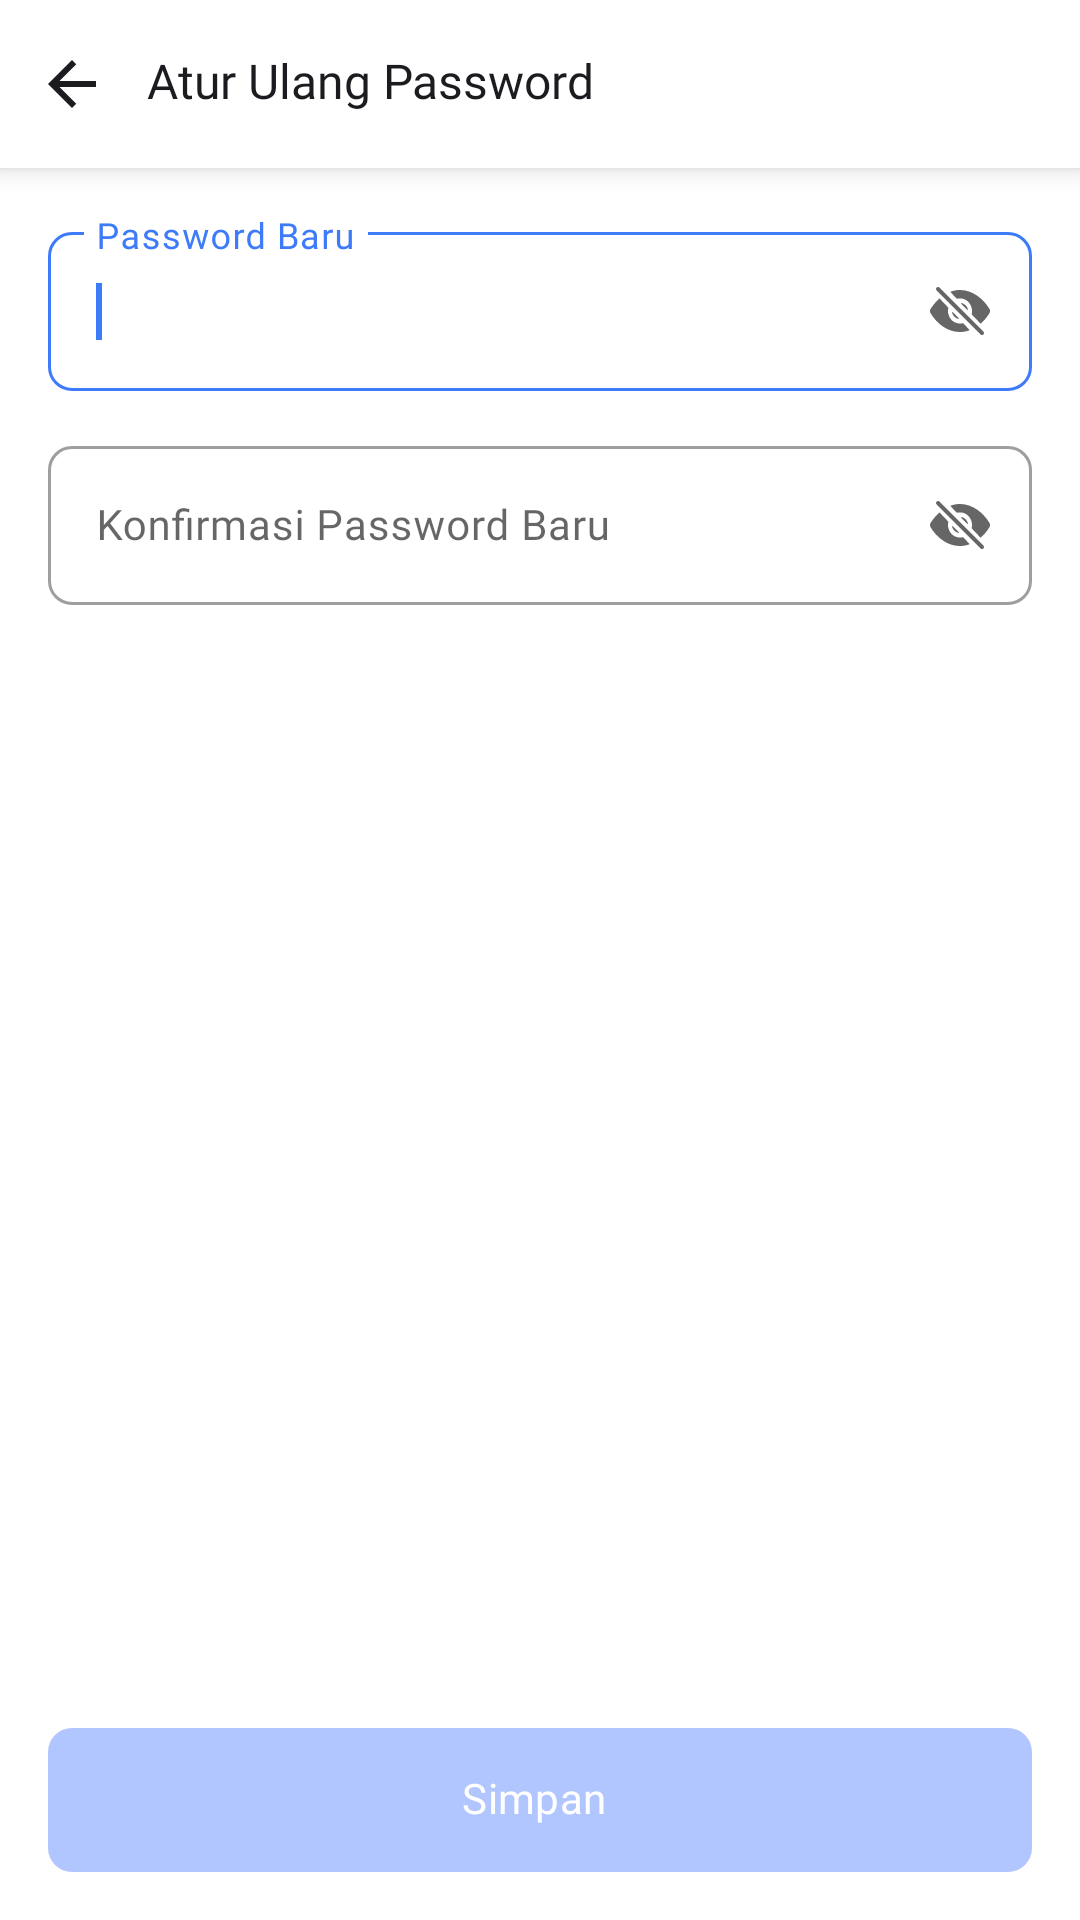

Icons on this 1080 × 1920 Android screen, each with the point to tap as point (x, y):
all arrow back: point (72, 84)
